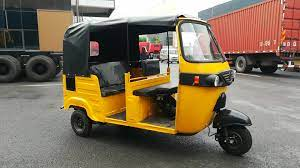auto: (58, 13, 260, 161)
